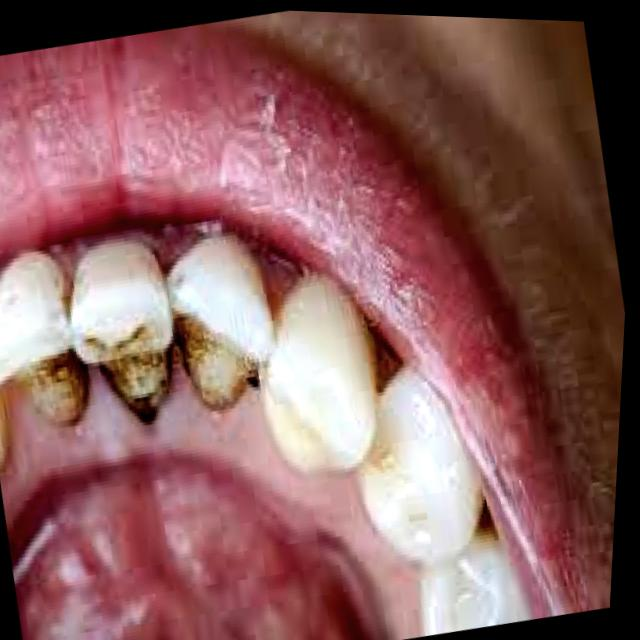tooth-discoloration: (178, 317, 258, 411), (24, 355, 90, 428), (105, 351, 171, 422)
